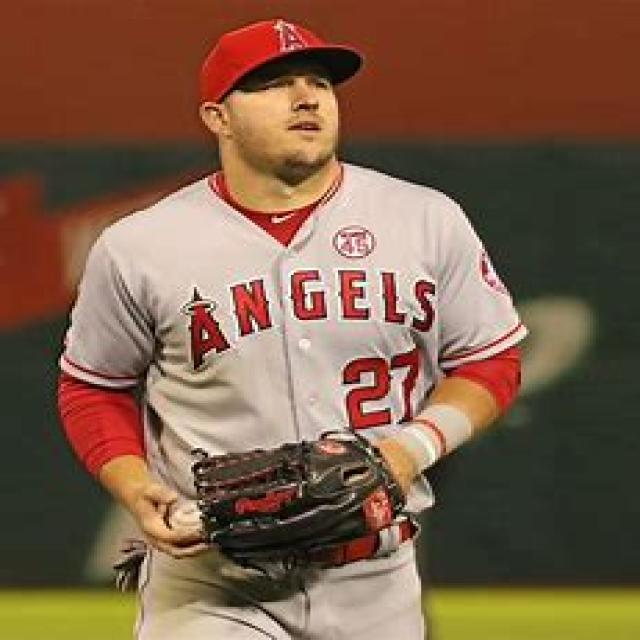glove: (188, 427, 413, 565)
